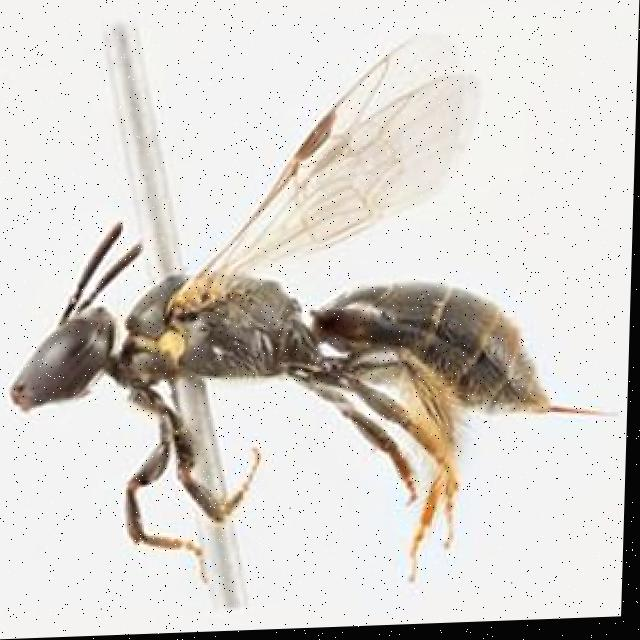Braunsapis: (7, 29, 586, 619)
